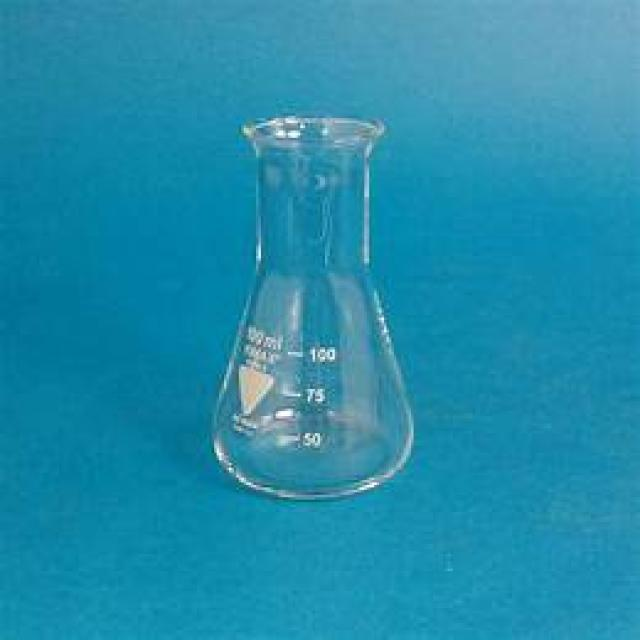Titrarion: (191, 107, 420, 497)
